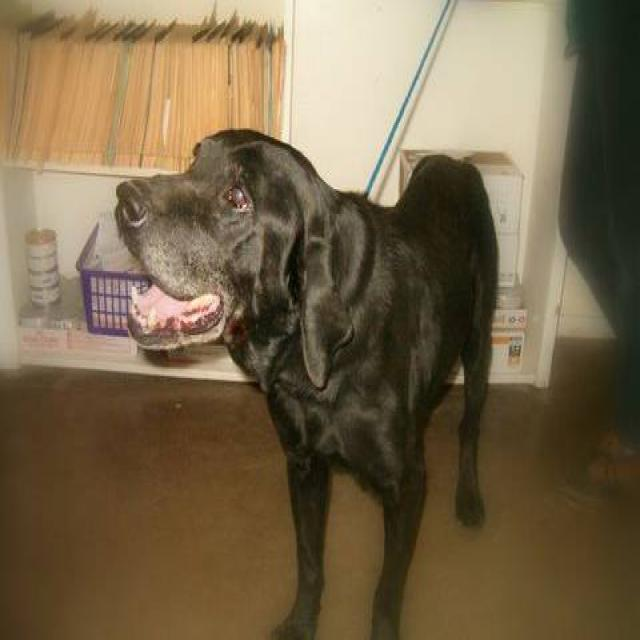Dog: (84, 97, 372, 395)
